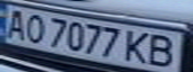0: (63, 19, 84, 52)
7: (42, 16, 69, 48), (81, 21, 106, 55), (100, 25, 124, 60)
A: (0, 7, 30, 39)
B: (145, 32, 184, 70)
K: (121, 28, 154, 64)
O: (18, 11, 48, 44)
